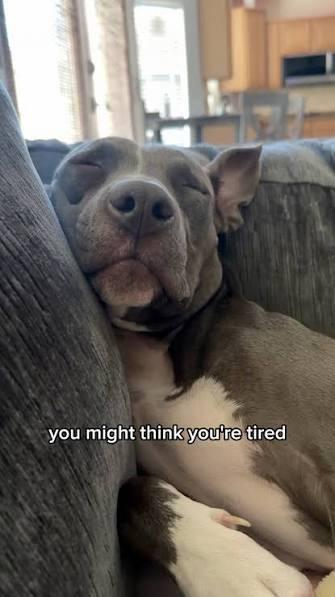adult_dog: (47, 133, 335, 597)
